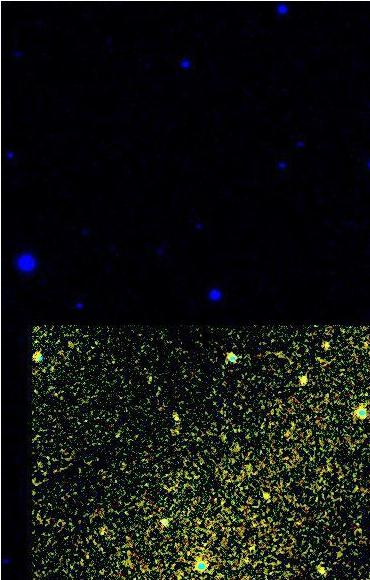star: (251, 480, 281, 510)
